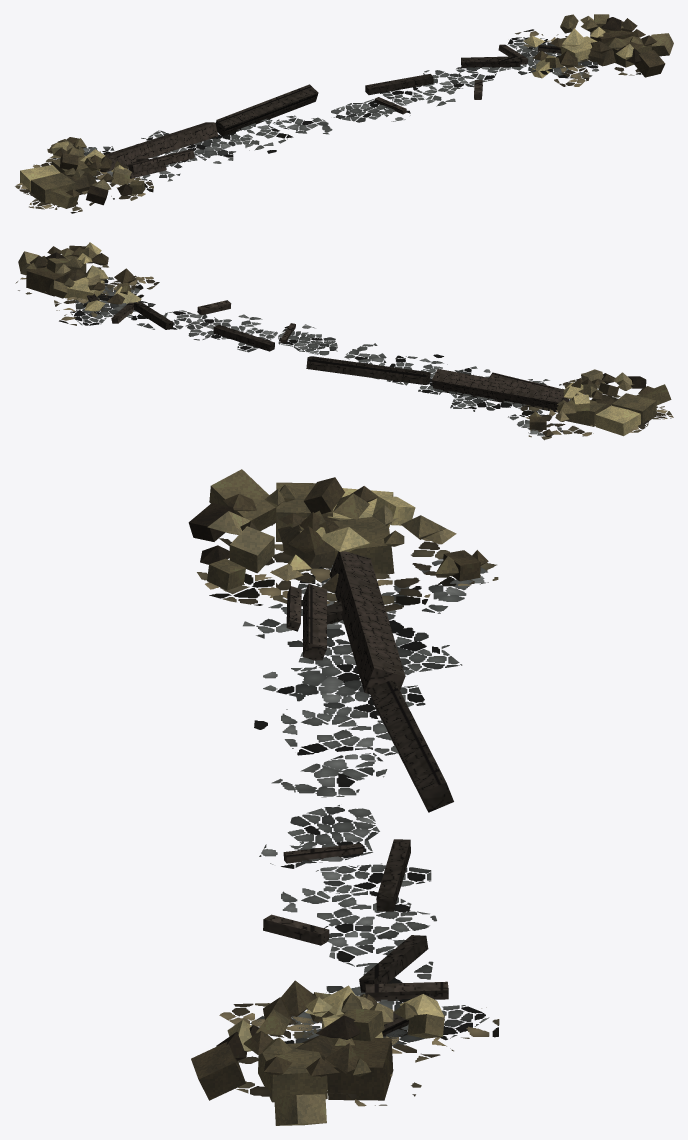
File: CreFence04a.glb
3 views of the same model, one above another, from view 1: azimuth 30°, elevation 25°; view 2: azimuth 150°, elevation 25°; view 3: azimuth 270°, elevation 25° (orthographic). The views are drawn at different scales.
Visible parts, largest first — view 1: fr_st; view 2: fr_st; view 3: fr_st.
Part boxes in pixels (box(x1,y1,x2,y2)): fr_st: box(15, 14, 673, 213); fr_st: box(15, 242, 673, 440); fr_st: box(188, 469, 499, 1125).
Size of the model in its own units: 5.37 by 0.3468 by 1.11.
Materials: 4 (4 with a texture image).
